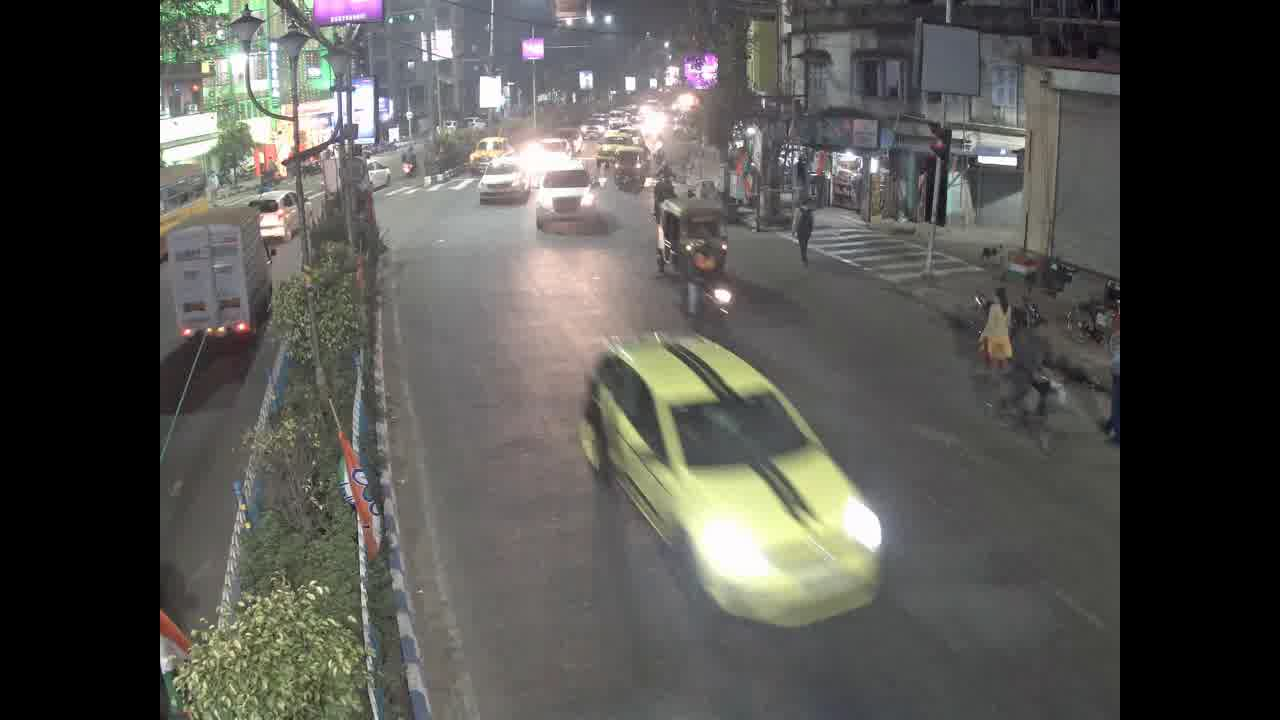auto-rickshaw: (658, 199, 728, 281), (612, 146, 643, 191)
car: (578, 330, 906, 627), (534, 159, 605, 226), (467, 161, 524, 209), (253, 199, 312, 240), (471, 138, 499, 157)
person: (973, 274, 1019, 390), (1012, 314, 1061, 387), (785, 194, 828, 262), (690, 241, 723, 293)
